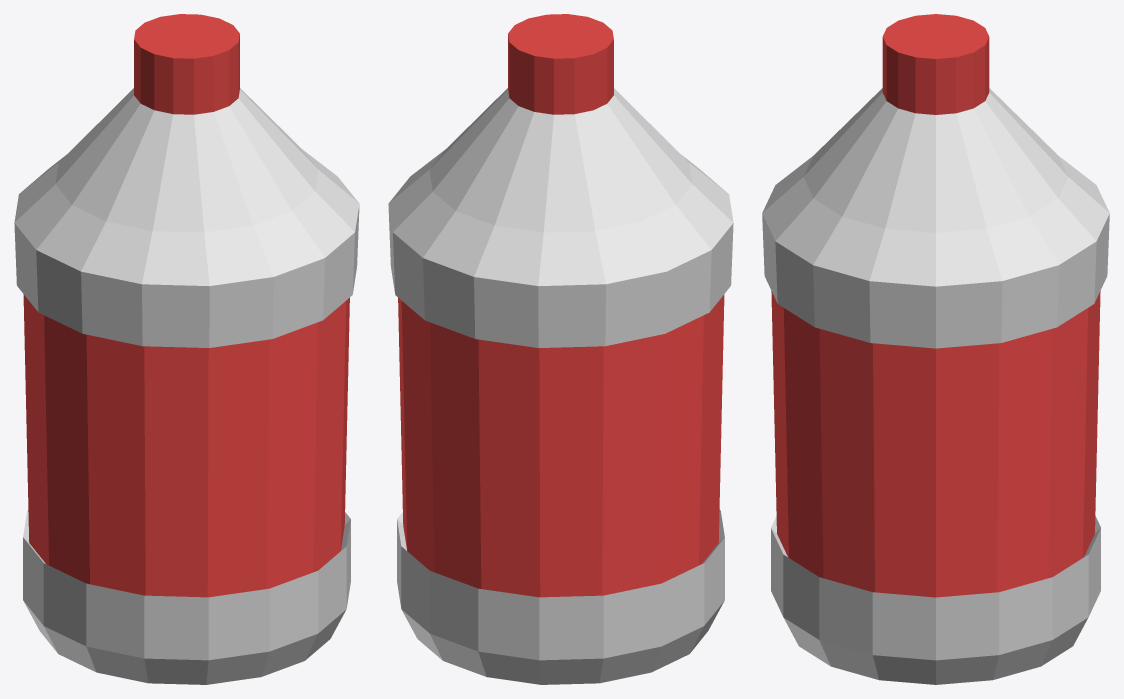
The model's file is red_jug.glb.
3 views of the same model, side by side, from view 1: azimuth 30°, elevation 25°; view 2: azimuth 150°, elevation 25°; view 3: azimuth 270°, elevation 25° (orthographic).
Parts seen in each view (by area): view 1: Cylinder.011, Cylinder.010, Cylinder.009, Cylinder.007; view 2: Cylinder.011, Cylinder.010, Cylinder.009, Cylinder.007; view 3: Cylinder.011, Cylinder.010, Cylinder.009, Cylinder.007.
Boxes of the visible parts, x1,y1,x2,y2 form: Cylinder.011: (23, 294, 349, 597); Cylinder.010: (14, 88, 359, 347); Cylinder.009: (23, 509, 350, 684); Cylinder.007: (134, 14, 239, 114); Cylinder.011: (398, 294, 724, 597); Cylinder.010: (388, 88, 733, 347); Cylinder.009: (397, 509, 724, 684); Cylinder.007: (508, 14, 613, 114); Cylinder.011: (771, 291, 1100, 597); Cylinder.010: (762, 88, 1109, 348); Cylinder.009: (771, 516, 1100, 684); Cylinder.007: (882, 14, 989, 114).
Size of the model in its own units: 3.5 by 6.51 by 3.5.
